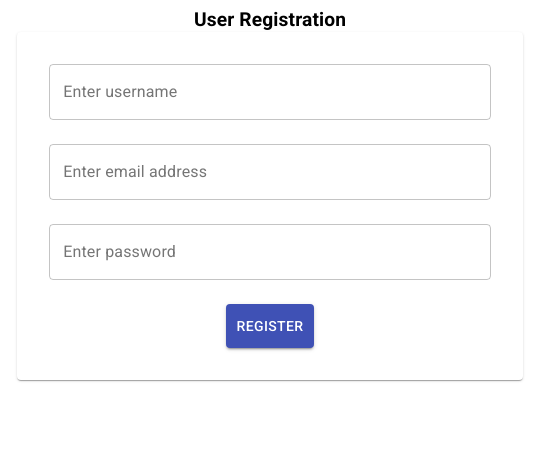
Test: Register from › should show required error message when no input
Click the button "Register" at (270, 326), box [226,304,314,348]
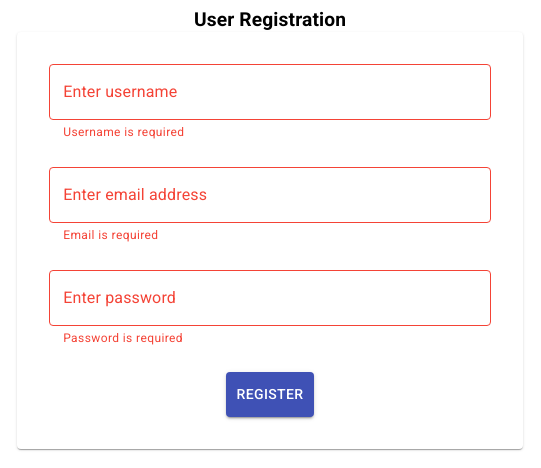
Expected: the text "Email is required" is shown, [63,228,158,242]
Expected: the text "Username is required" is shown, [63,125,184,139]
Expected: the text "Password is required" is shown, [63,330,183,344]
